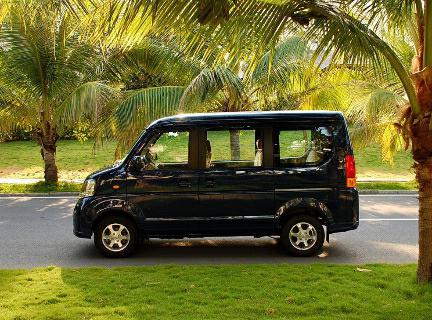铃木-浪迪: (71, 108, 365, 256)
